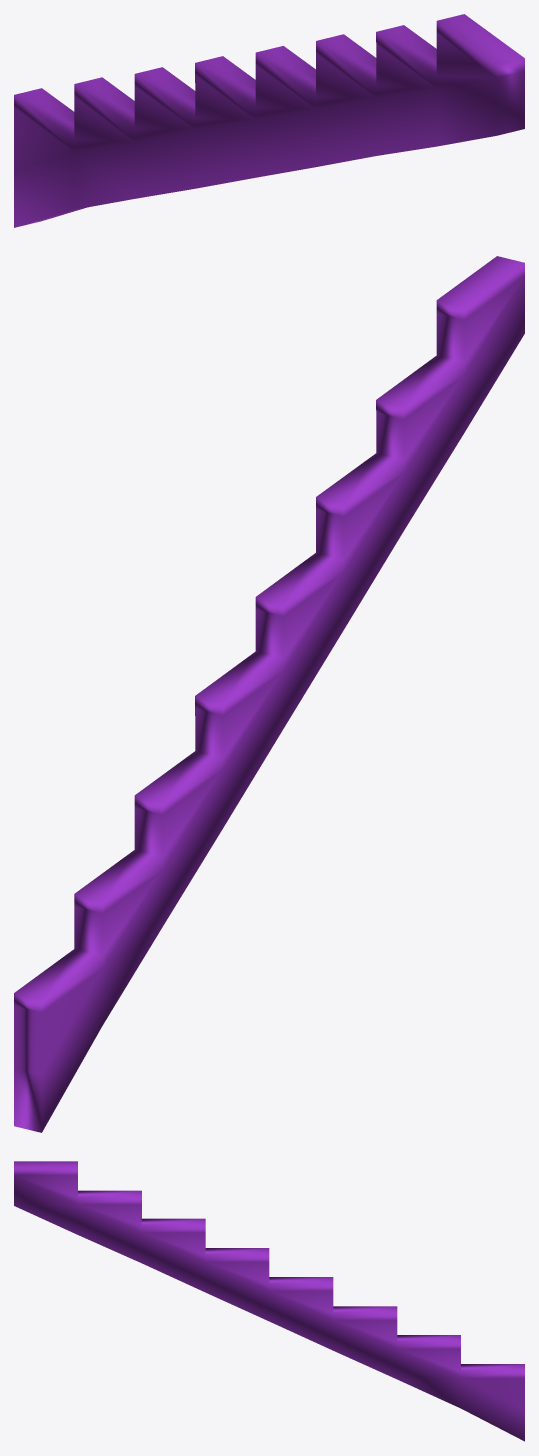
Rendered from Stairs_01_Side_Lod0.fbx.
3 renders of one model, top to bottom at view 1: azimuth 30°, elevation 25°; view 2: azimuth 150°, elevation 25°; view 3: azimuth 270°, elevation 25°, orthographic. The views are drawn at different scales.
Parts seen in each view (by area): view 1: Stairs_01_Side_Lod0; view 2: Stairs_01_Side_Lod0; view 3: Stairs_01_Side_Lod0.
Part boxes in pixels (box(x1,y1,x2,y2)): Stairs_01_Side_Lod0: box(14, 14, 524, 227); Stairs_01_Side_Lod0: box(14, 256, 524, 1132); Stairs_01_Side_Lod0: box(14, 1161, 524, 1441).
Bounding box in the file's own units: 9.97 × 177 × 300.
